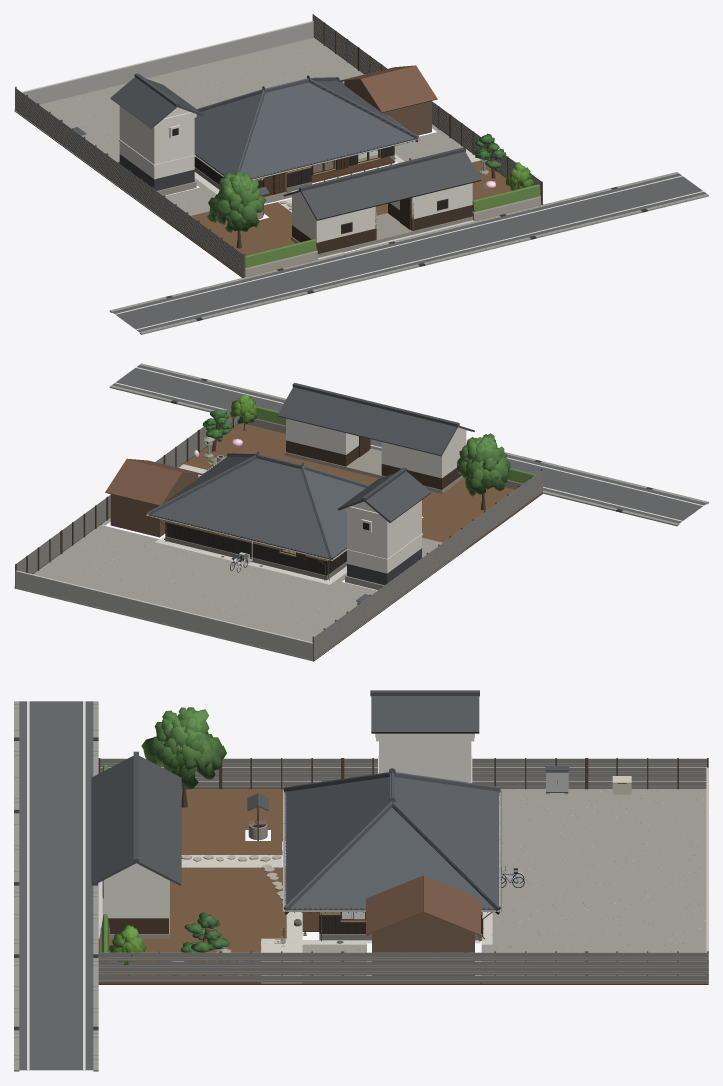
The model's file is haikei_house_20261018.glb.
The picture shows the model from 3 angles, top to bottom: view 1: azimuth 30°, elevation 25°; view 2: azimuth 150°, elevation 25°; view 3: azimuth 270°, elevation 25°; orthographic projection. The views are drawn at different scales.
Parts seen in each view (by area): view 1: ground_hy_asph, hroof_hx_ikawara_i, hestate_hyground_34_hy_gravel, ground_hy_krroof, hestate_hykura_68_hy_krplas, ground_hy_gcover2, ground_hy_soil2 (×2), ground_hy_krplas, ground_hy_boardg_y (×2), hestate_hynbhouse_69_hy_nbr3, hestate_hykura_68_hy_krroof, ground_hy_krwood (+19 smaller); view 2: hestate_hyground_34_hy_gravel, hroof_hx_ikawara_i, ground_hy_asph, ground_hy_krroof, ground_hy_soil2 (×2), hestate_hykura_68_hy_krplas, ground_hy_krplas, ground_hy_boardg_y (×2), hestate_hynbhouse_69_hy_nbr3, hestate_hykura_68_hy_krroof, hfacade_hx_clad_25_hx_iyakisugi, hestate_tree_71_fol_ever_t (+21 smaller); view 3: hestate_hyground_34_hy_gravel, ground_hy_asph, hroof_hx_ikawara_i, ground_hy_soil2 (×2), ground_hy_boardg_y (×2), ground_hy_krroof, hestate_hykura_68_hy_krroof, hestate_hynbhouse_69_hy_nbr3, hestate_hykura_68_hy_krplas, hestate_hyfence_5_hy_boardg_y, hestate_hyfence_6_hy_boardg_y, hestate_hyfence_7_hy_boardg_y (+18 smaller).
Boxes of the visible parts, left/top/right/bottom form: ground_hy_asph: left=112, top=173, right=706, bottom=331; hroof_hx_ikawara_i: left=194, top=80, right=415, bottom=178; hestate_hyground_34_hy_gravel: left=14, top=37, right=364, bottom=169; ground_hy_krroof: left=283, top=147, right=480, bottom=220; hestate_hykura_68_hy_krplas: left=118, top=106, right=196, bottom=179; ground_hy_gcover2: left=109, top=172, right=708, bottom=334; ground_hy_soil2 (×2): left=167, top=160, right=543, bottom=277; ground_hy_krplas: left=292, top=183, right=472, bottom=242; ground_hy_boardg_y (×2): left=152, top=116, right=542, bottom=276; hestate_hynbhouse_69_hy_nbr3: left=339, top=65, right=437, bottom=112; hestate_hykura_68_hy_krroof: left=110, top=73, right=203, bottom=128; ground_hy_krwood: left=292, top=198, right=472, bottom=254; hestate_hyground_34_hy_gravel: left=14, top=528, right=394, bottom=660; hroof_hx_ikawara_i: left=152, top=456, right=365, bottom=558; ground_hy_asph: left=112, top=365, right=706, bottom=523; ground_hy_krroof: left=277, top=383, right=474, bottom=456; ground_hy_soil2 (×2): left=183, top=423, right=543, bottom=548; hestate_hykura_68_hy_krplas: left=345, top=500, right=422, bottom=573; ground_hy_krplas: left=286, top=418, right=466, bottom=478; ground_hy_boardg_y (×2): left=155, top=406, right=542, bottom=558; hestate_hynbhouse_69_hy_nbr3: left=105, top=458, right=203, bottom=505; hestate_hykura_68_hy_krroof: left=338, top=467, right=431, bottom=522; hfacade_hx_clad_25_hx_iyakisugi: left=165, top=523, right=327, bottom=575; hestate_tree_71_fol_ever_t: left=457, top=434, right=510, bottom=493; hestate_hyground_34_hy_gravel: left=492, top=788, right=708, bottom=983; ground_hy_asph: left=19, top=701, right=93, bottom=1070; hroof_hx_ikawara_i: left=285, top=777, right=498, bottom=909; ground_hy_soil2 (×2): left=98, top=788, right=286, bottom=983; ground_hy_boardg_y (×2): left=98, top=758, right=342, bottom=981; ground_hy_krroof: left=91, top=751, right=181, bottom=885; hestate_hykura_68_hy_krroof: left=370, top=690, right=479, bottom=733; hestate_hynbhouse_69_hy_nbr3: left=366, top=875, right=480, bottom=935; hestate_hykura_68_hy_krplas: left=376, top=733, right=474, bottom=782; hestate_hyfence_5_hy_boardg_y: left=586, top=952, right=708, bottom=981; hestate_hyfence_6_hy_boardg_y: left=464, top=952, right=586, bottom=981; hestate_hyfence_7_hy_boardg_y: left=342, top=952, right=464, bottom=981.
Bounding box in the file's own units: 50.9 × 7.88 × 40.54.
